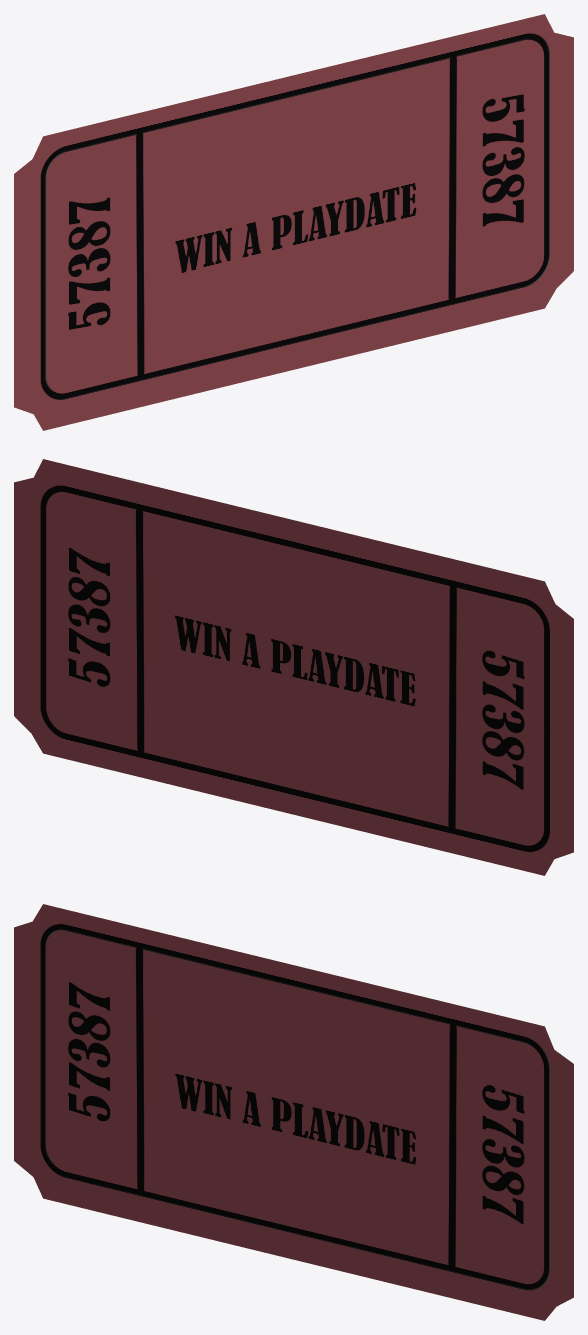
File: Raffle_Ticket.fbx
3 views of the same model, one above another, from view 1: azimuth 30°, elevation 25°; view 2: azimuth 150°, elevation 25°; view 3: azimuth 330°, elevation 25° (orthographic).
Visible parts, largest first — view 1: Raffle_Ticket; view 2: Raffle_Ticket; view 3: Raffle_Ticket.
Boxes of the visible parts, x1,y1,x2,y2 form: Raffle_Ticket: (14,14,573,430); Raffle_Ticket: (14,459,573,875); Raffle_Ticket: (14,904,573,1320).
Size of the model in its own units: 4.84 by 2.43 by 0.00166.
